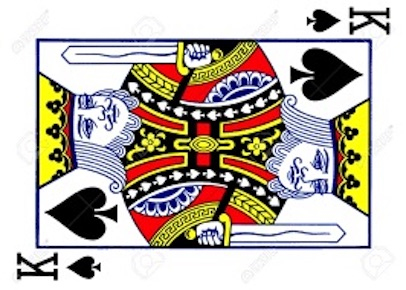KingOfSpades: (2, 1, 403, 287)
